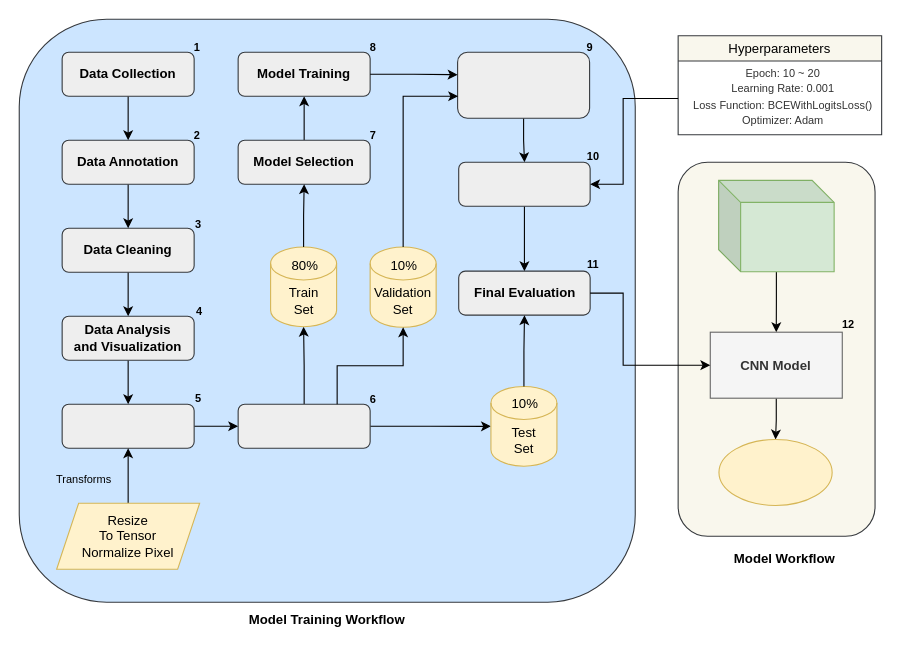
Some shapes in this 906 by 656 pixel diagram are drawn without their labels. Here are the shapes that lost their labels. From the top down, the centre of each, then its label:
the point at 523,84: Model Performance Evaluation
the point at 524,183: Model Optimization
the point at 776,225: Image
the point at 127,425: Data Preprocessing
the point at 303,425: Split Dataset
the point at 775,471: Occupancy Sensing
